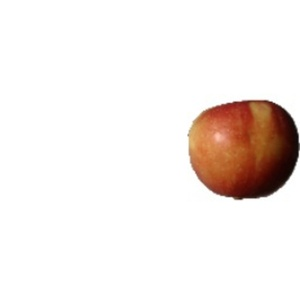maçã braeburn: (184, 96, 300, 202)
